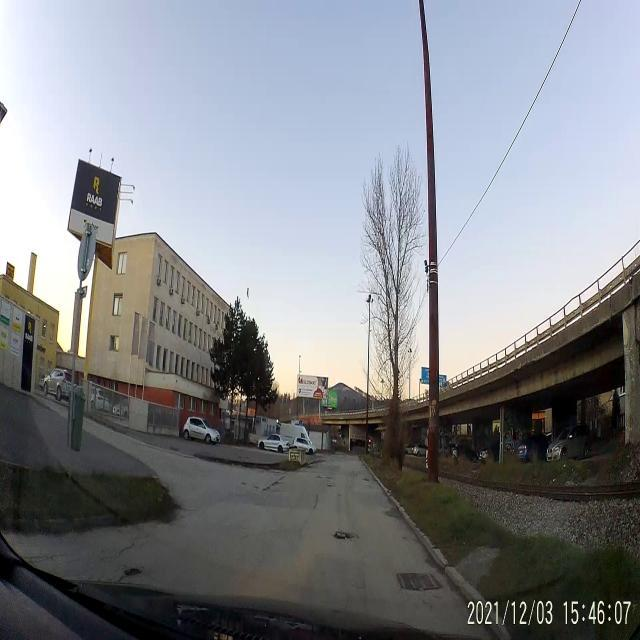Manhole: (396, 566, 442, 596)
Pothole: (260, 472, 290, 497), (120, 564, 145, 582), (330, 528, 358, 544), (315, 474, 338, 482), (359, 474, 372, 486), (325, 482, 338, 489)
